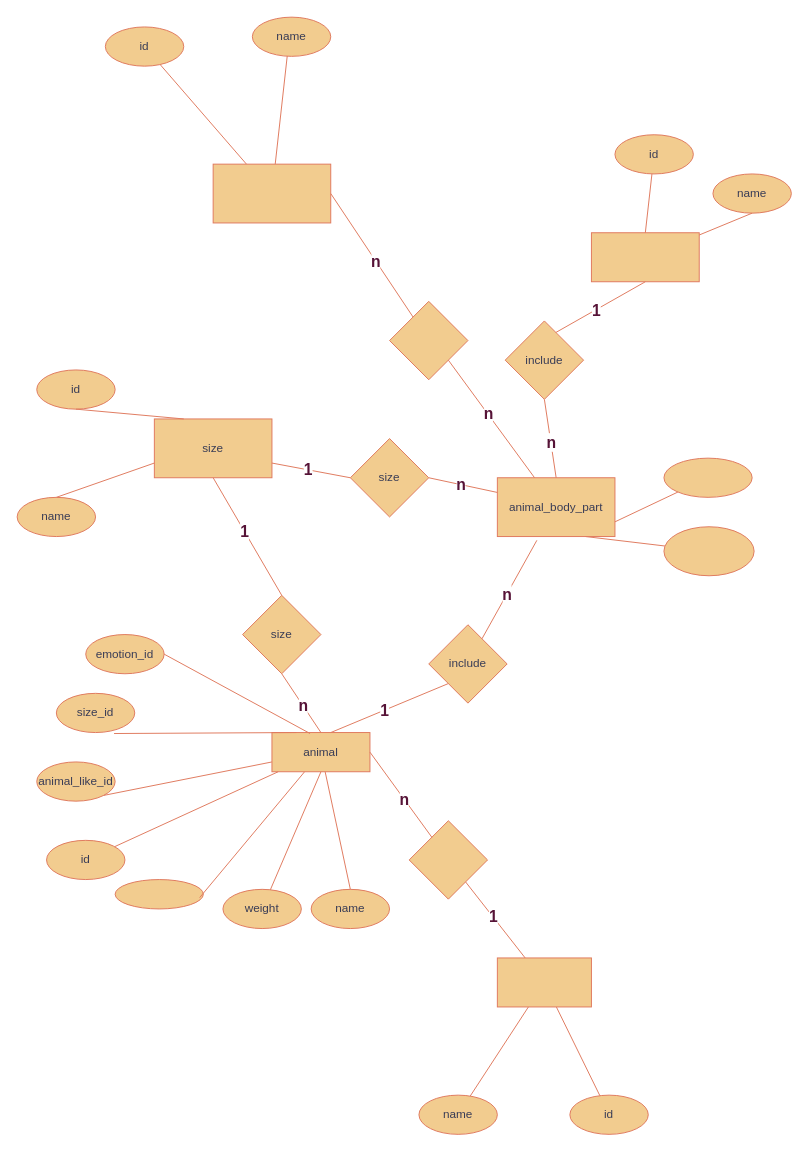
The diagram is 809 pixels wide and 1159 high, and some of its shapes have lost their labels. Each missing label, with the centre of its shape:
"animal_id" goes at (707,477).
"Body_part" goes at (644,257).
"body_part_id" goes at (708,551).
"element" goes at (428,340).
"emotion" goes at (543,982).
"Gear" goes at (271,193).
"height" goes at (158,894).
"look" goes at (448,859).
